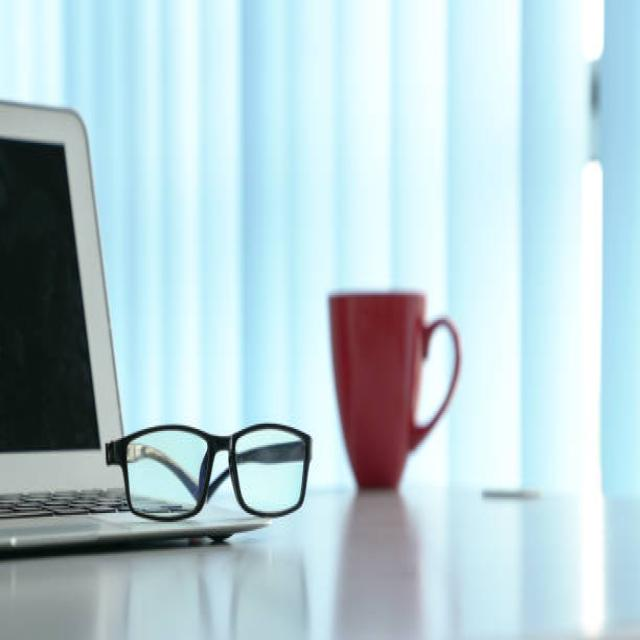Red_cup: (330, 294, 461, 488)
